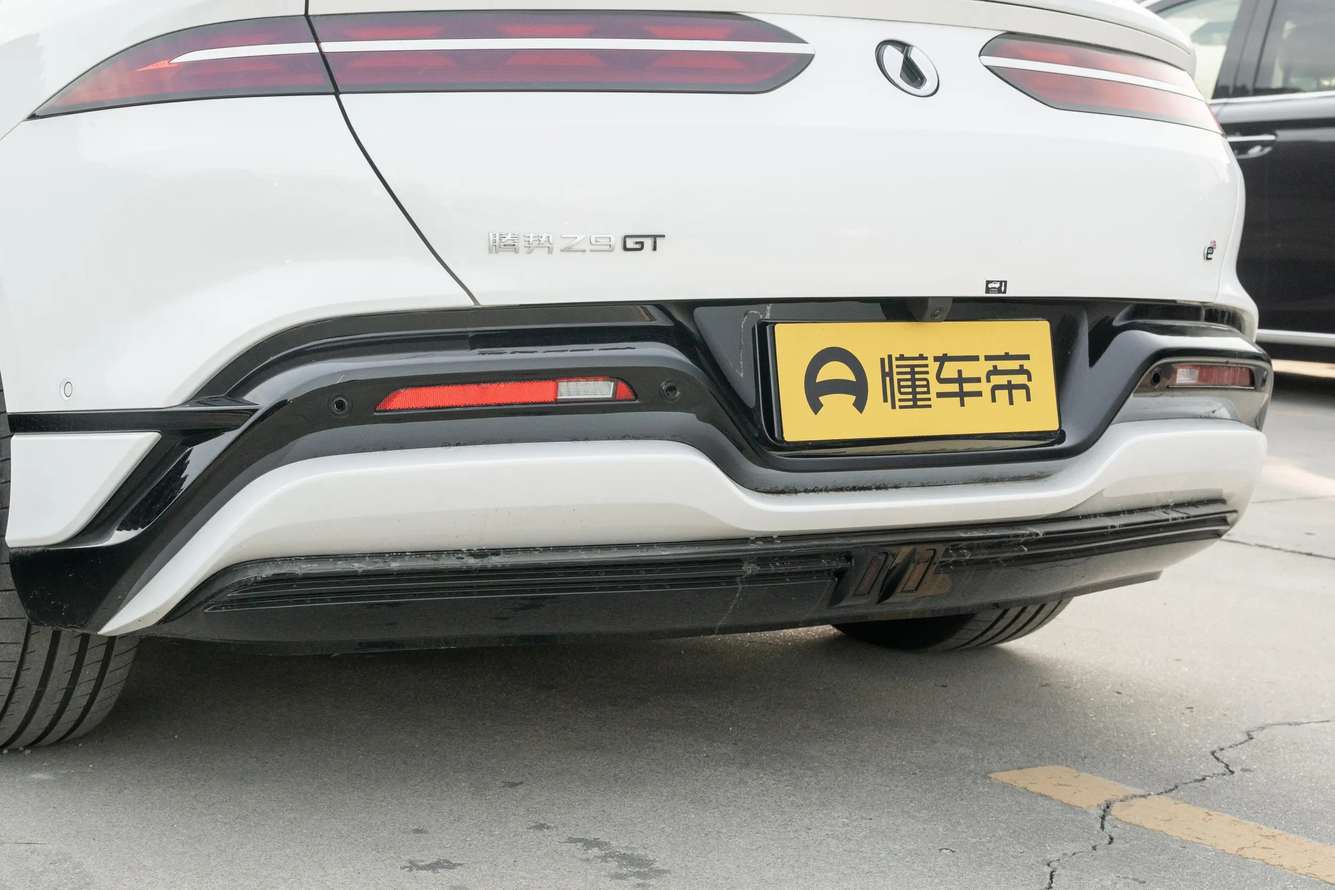DENZA: (883, 45, 937, 95)
